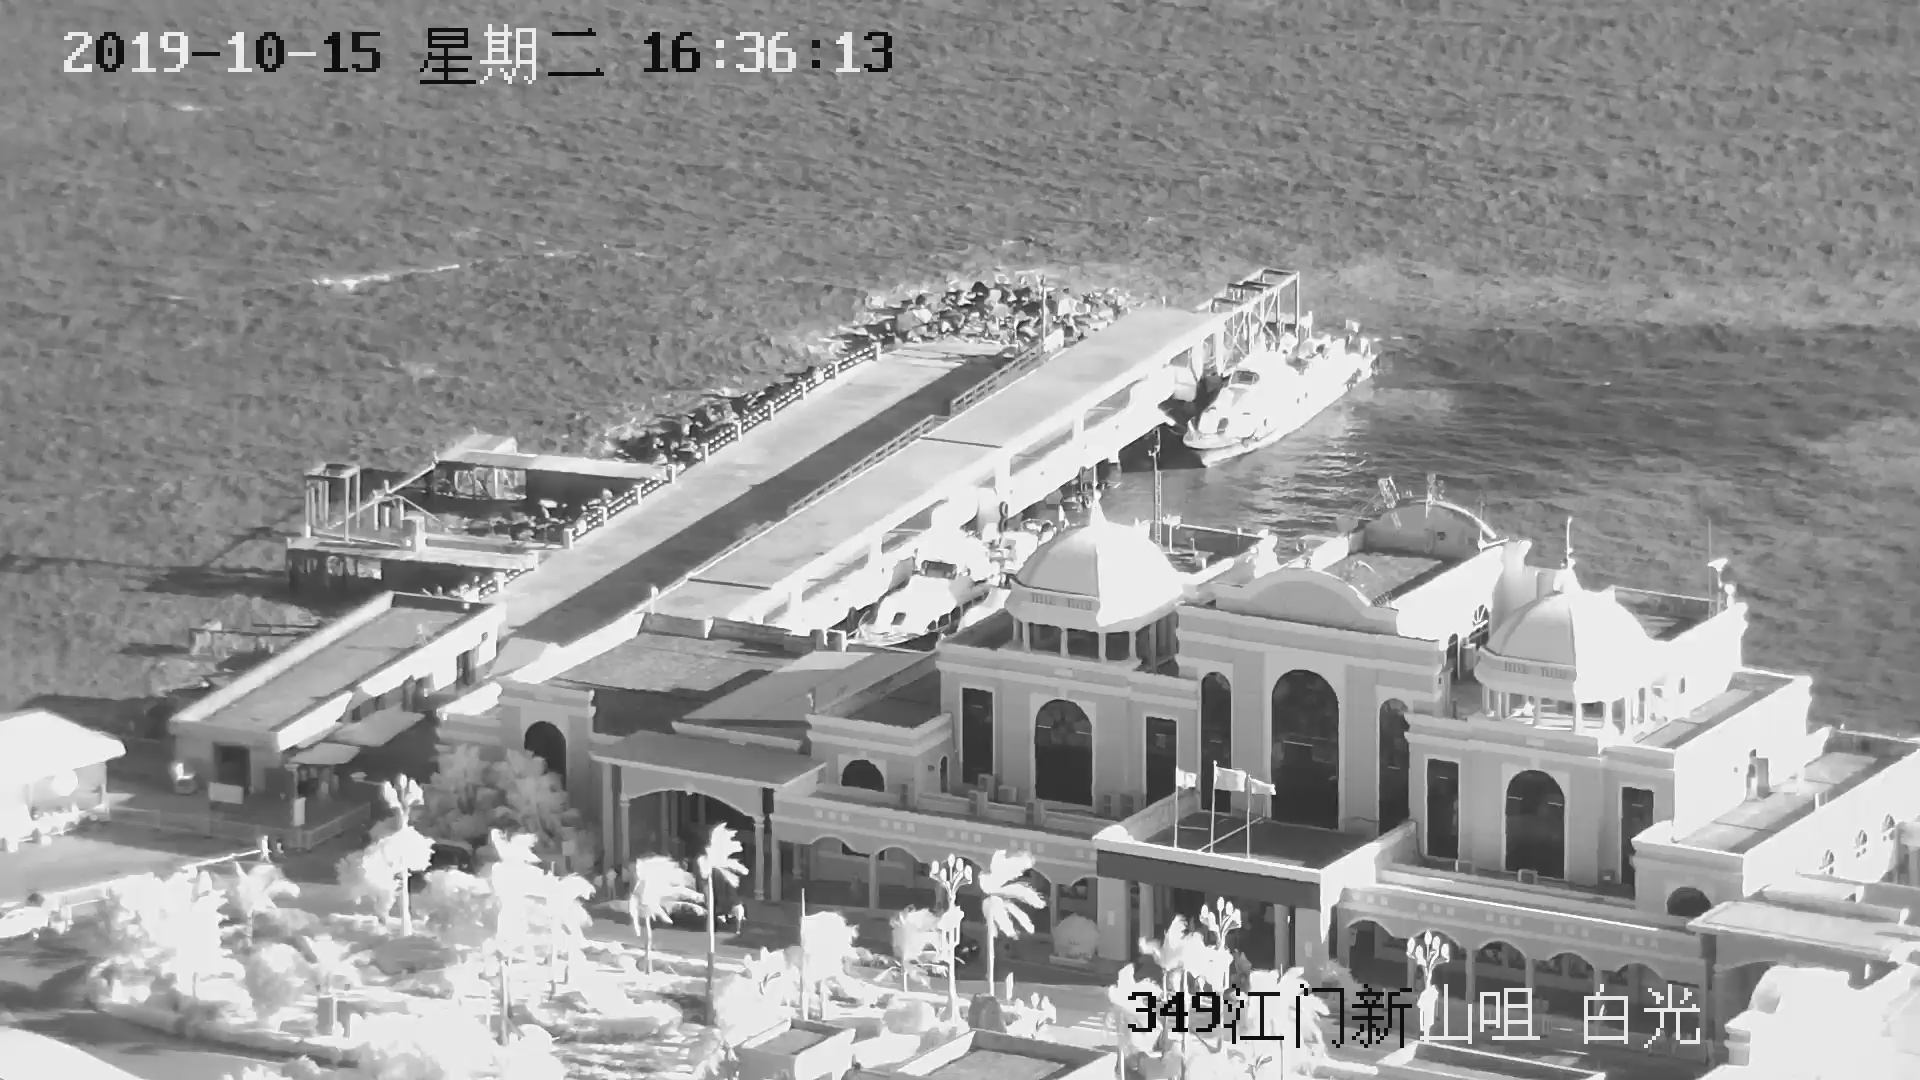ship: (1146, 314, 1385, 467)
